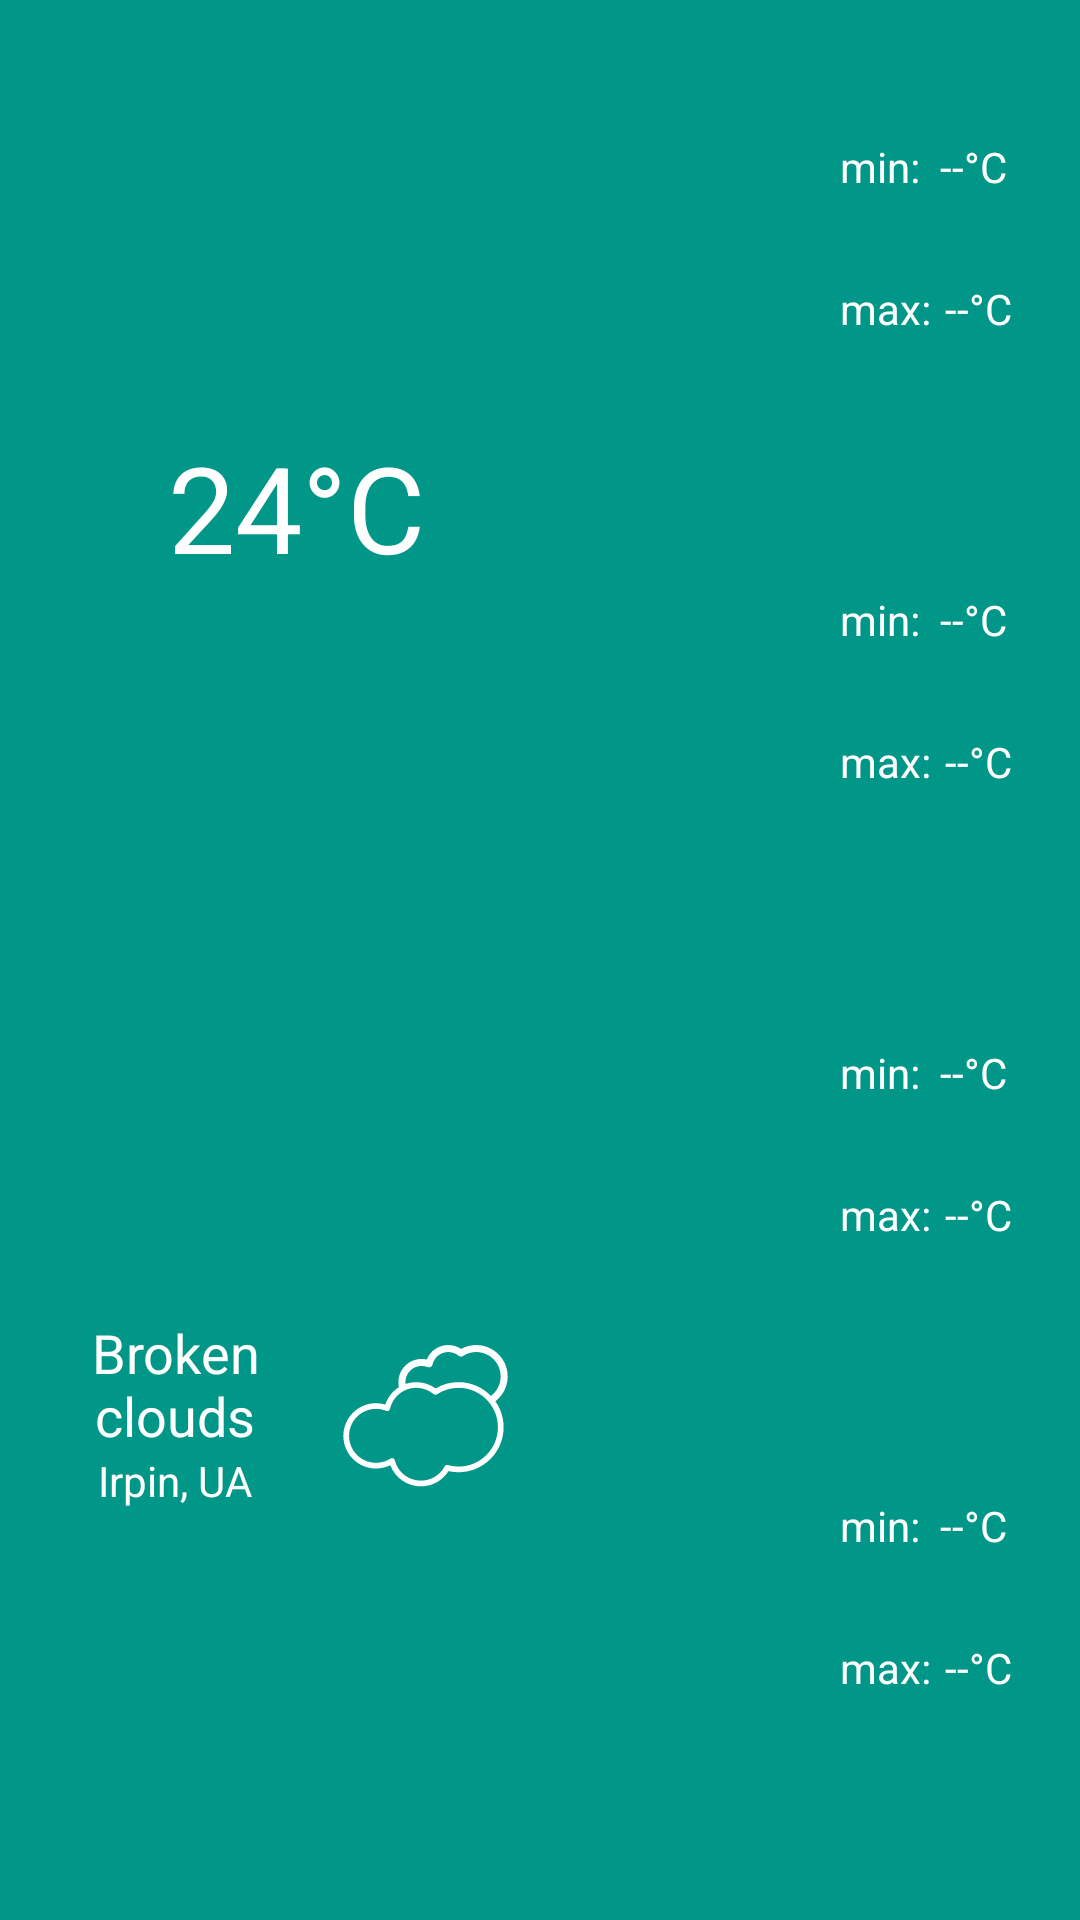

Named icons in this screenshot (1080 x 1920) and their centers, (x=x, y=y):
clouds heavy: (x=425, y=1416)
